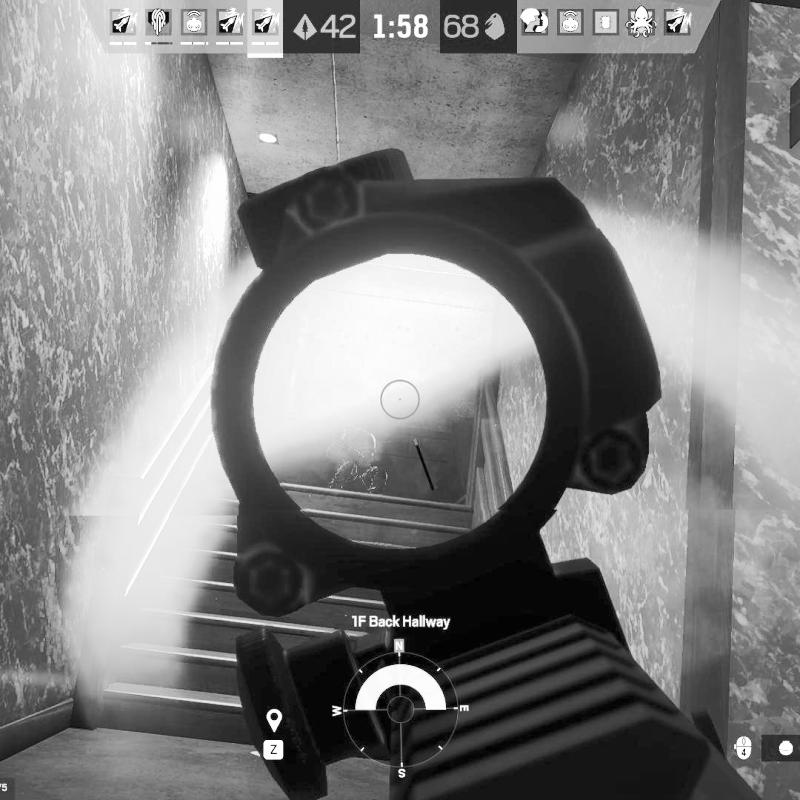Character: (327, 416, 385, 499)
Head: (342, 416, 362, 436)
